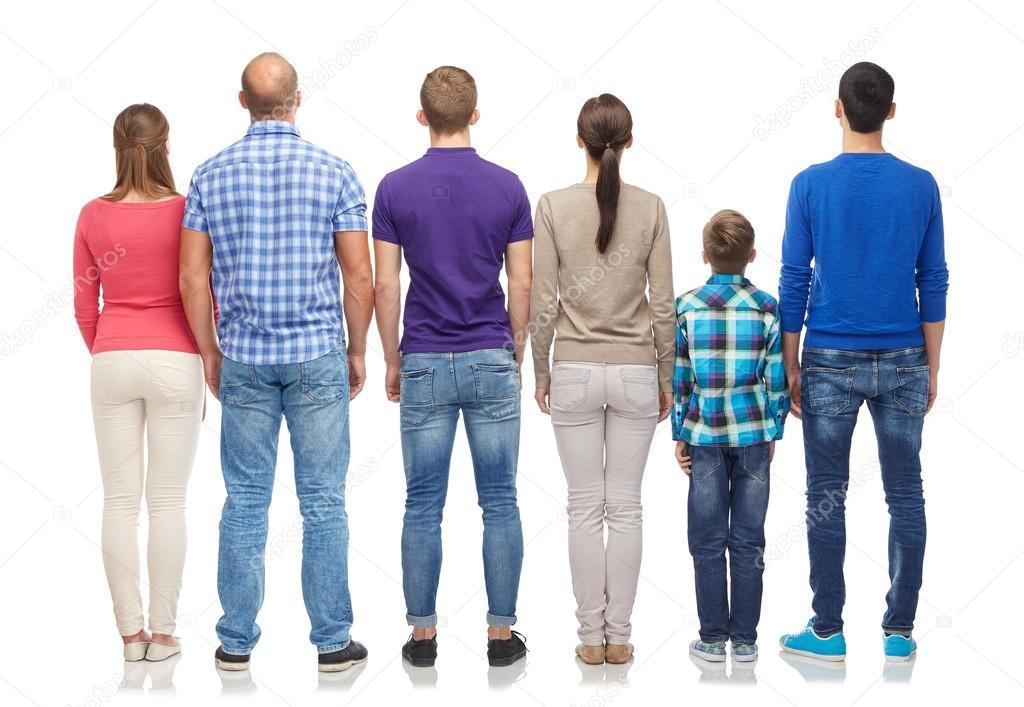long sleeve shirt: (69, 189, 223, 355), (672, 271, 790, 445)
short sleeve shirt: (184, 118, 370, 361), (373, 146, 536, 349)
sweater: (776, 147, 950, 351), (529, 178, 676, 389)
trousers: (212, 348, 359, 654), (798, 344, 934, 638), (397, 349, 527, 632), (87, 347, 208, 640), (545, 359, 666, 647), (685, 438, 774, 642)
